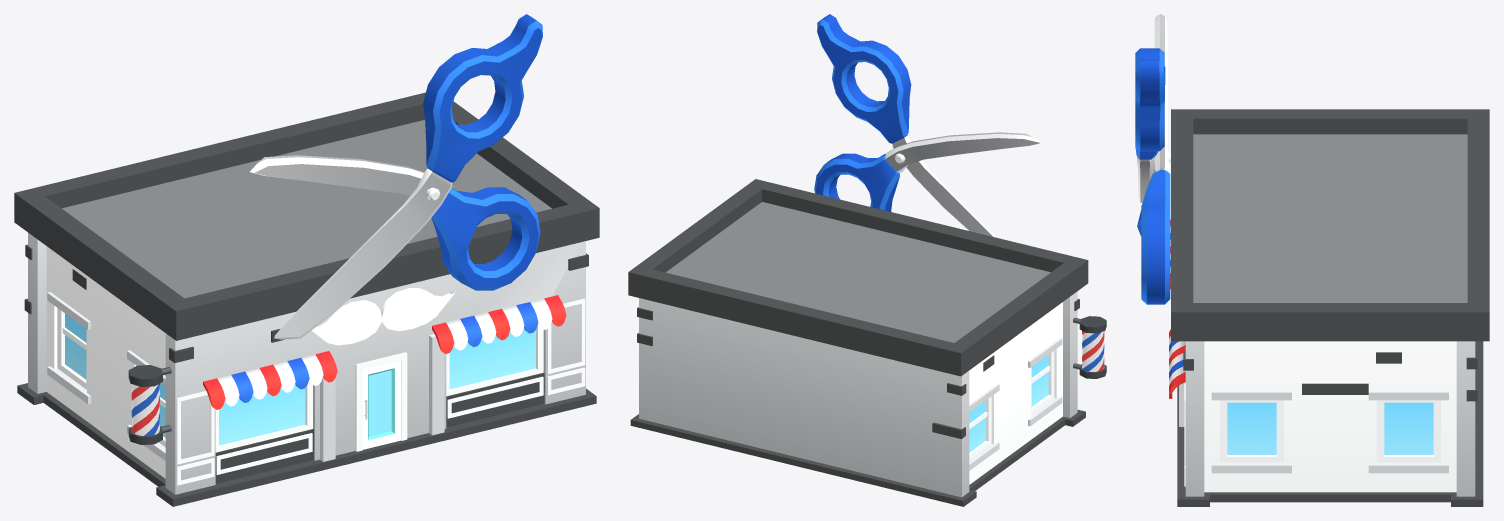
File: Building_Service_02.glb
3 views of the same model, side by side, from view 1: azimuth 30°, elevation 25°; view 2: azimuth 150°, elevation 25°; view 3: azimuth 270°, elevation 25° (orthographic). The views are drawn at different scales.
Parts seen in each view (by area): view 1: Building_Service_02; view 2: Building_Service_02; view 3: Building_Service_02.
Part boxes in pixels (x1=…): Building_Service_02: x1=14, y1=14, x2=599, y2=506; Building_Service_02: x1=628, y1=14, x2=1106, y2=506; Building_Service_02: x1=1135, y1=14, x2=1489, y2=506.
Size of the model in its own units: 12.8 by 11.12 by 8.74.
Materials: 2 (2 with a texture image).
